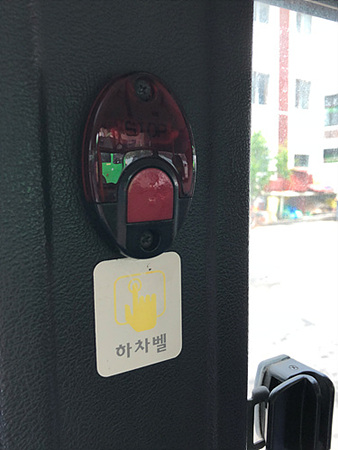bell: (79, 70, 199, 262)
